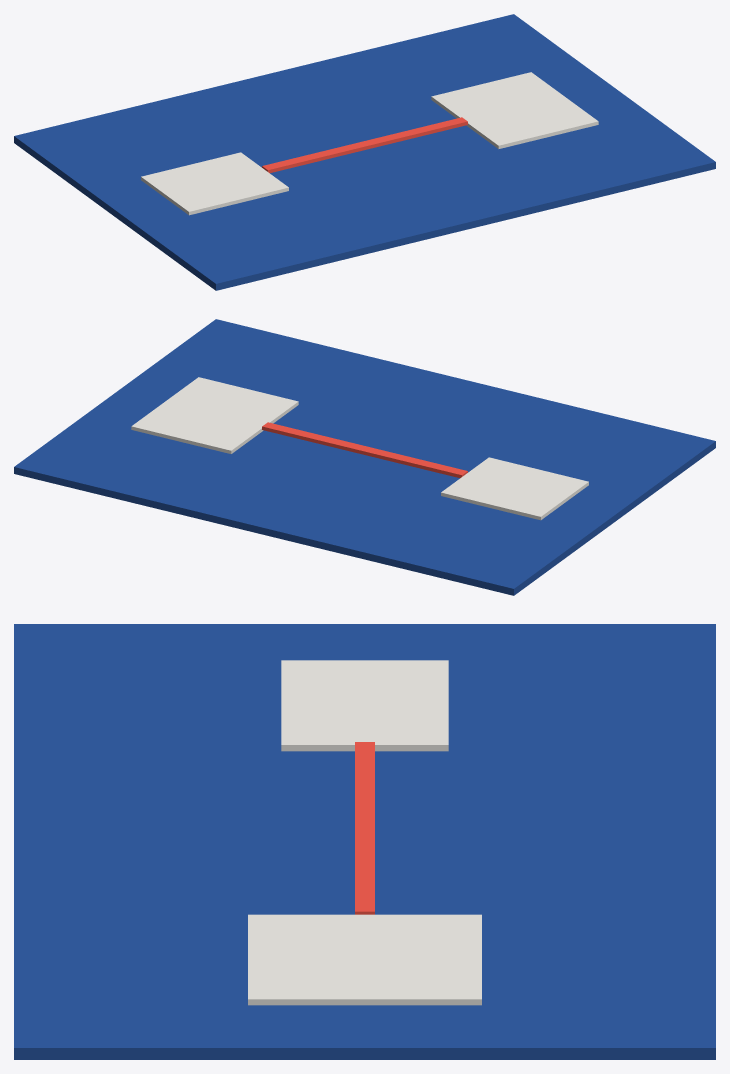
File: gym_wiring_plan.glb
3 renders of one model, top to bottom at view 1: azimuth 30°, elevation 25°; view 2: azimuth 150°, elevation 25°; view 3: azimuth 270°, elevation 25°, orthographic. The views are drawn at different scales.
Parts seen in each view (by area): view 1: paper_blueprint, lines_white, lines_plan_red; view 2: paper_blueprint, lines_white, lines_plan_red; view 3: paper_blueprint, lines_white, lines_plan_red.
Part boxes in pixels (x1,y1,x2,y2): paper_blueprint: [14, 14, 715, 290]; lines_white: [141, 72, 598, 215]; lines_plan_red: [262, 117, 467, 173]; paper_blueprint: [14, 319, 715, 595]; lines_white: [131, 377, 588, 520]; lines_plan_red: [262, 422, 467, 478]; paper_blueprint: [14, 624, 715, 1059]; lines_white: [248, 660, 481, 1005]; lines_plan_red: [355, 742, 374, 914].
Bounding box in the file's own units: 0.3 × 0.007 × 0.21.
